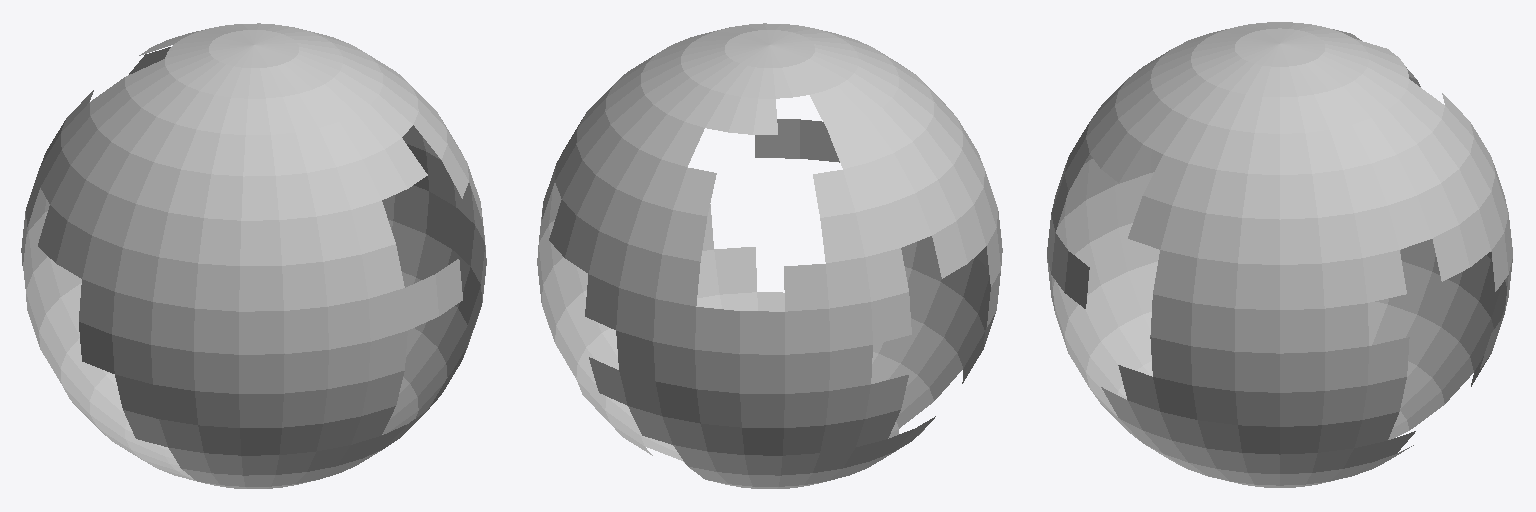
File: World.obj
The picture shows the model from 3 angles: view 1: azimuth 30°, elevation 25°; view 2: azimuth 150°, elevation 25°; view 3: azimuth 270°, elevation 25°; orthographic projection.
Parts seen in each view (by area): view 1: World; view 2: World; view 3: World.
Boxes of the visible parts, x1,y1,x2,y2 form: World: [21, 23, 486, 488]; World: [537, 23, 1002, 488]; World: [1047, 22, 1512, 487].
Bounding box in the file's own units: 528 × 533 × 533.